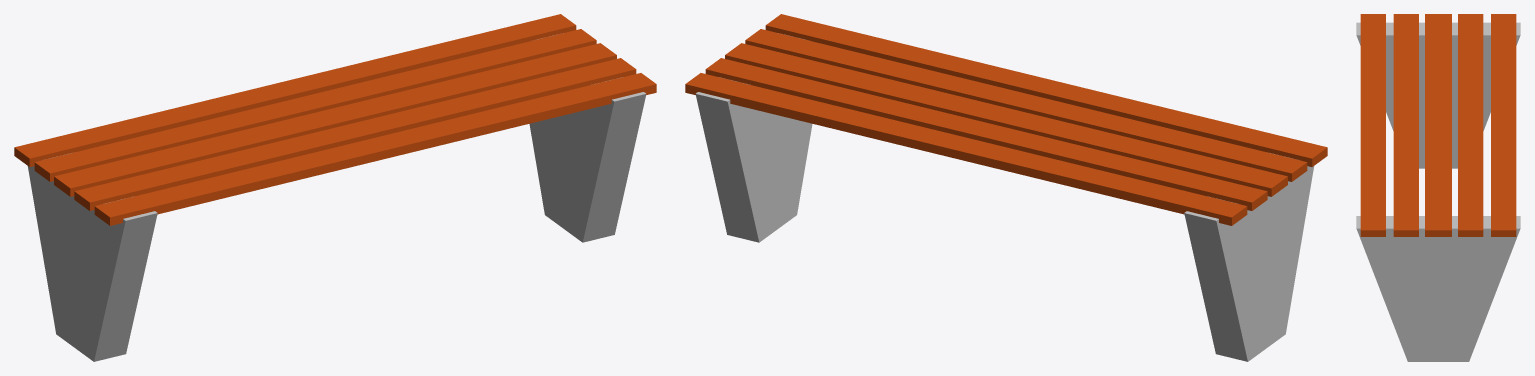
Rendered from Bench.obj.
3 renders of one model, left to right at view 1: azimuth 30°, elevation 25°; view 2: azimuth 150°, elevation 25°; view 3: azimuth 270°, elevation 25°, orthographic. The views are drawn at different scales.
Visible parts, largest first — view 1: Cube_Cube.001; view 2: Cube_Cube.001; view 3: Cube_Cube.001.
Boxes of the visible parts, x1=… form: Cube_Cube.001: x1=14, y1=14, x2=656, y2=361; Cube_Cube.001: x1=685, y1=14, x2=1327, y2=361; Cube_Cube.001: x1=1356, y1=14, x2=1520, y2=361.
Size of the model in its own units: 1.64 by 0.4835 by 0.5251.
